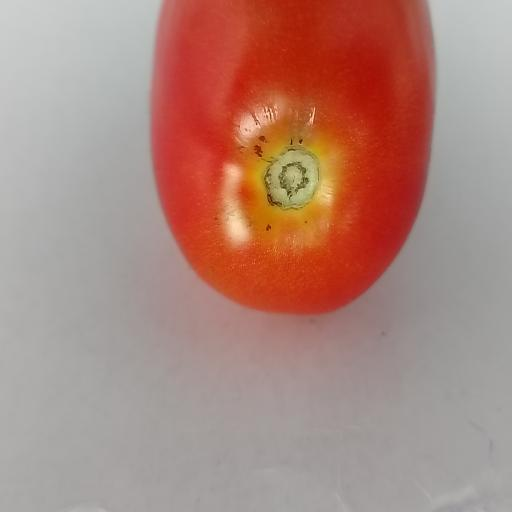ripe: (152, 0, 434, 313)
